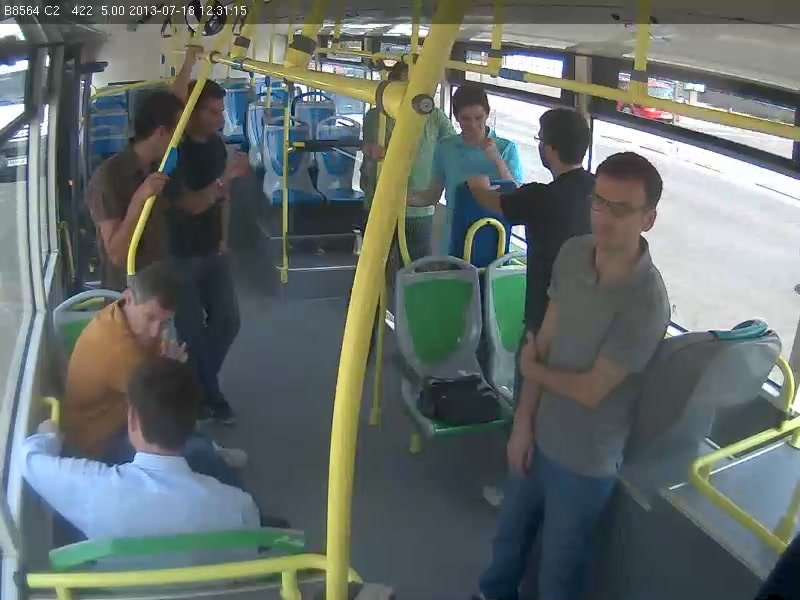Head: (123, 355, 213, 464), (584, 153, 661, 253), (115, 260, 186, 347), (532, 100, 595, 182), (134, 82, 192, 159), (441, 75, 494, 153), (184, 77, 234, 143)
